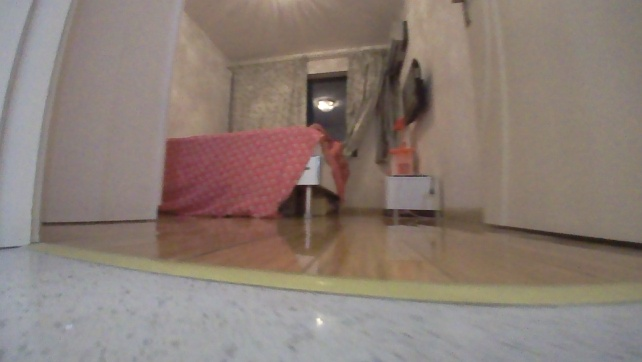bed1: (159, 121, 349, 219)
